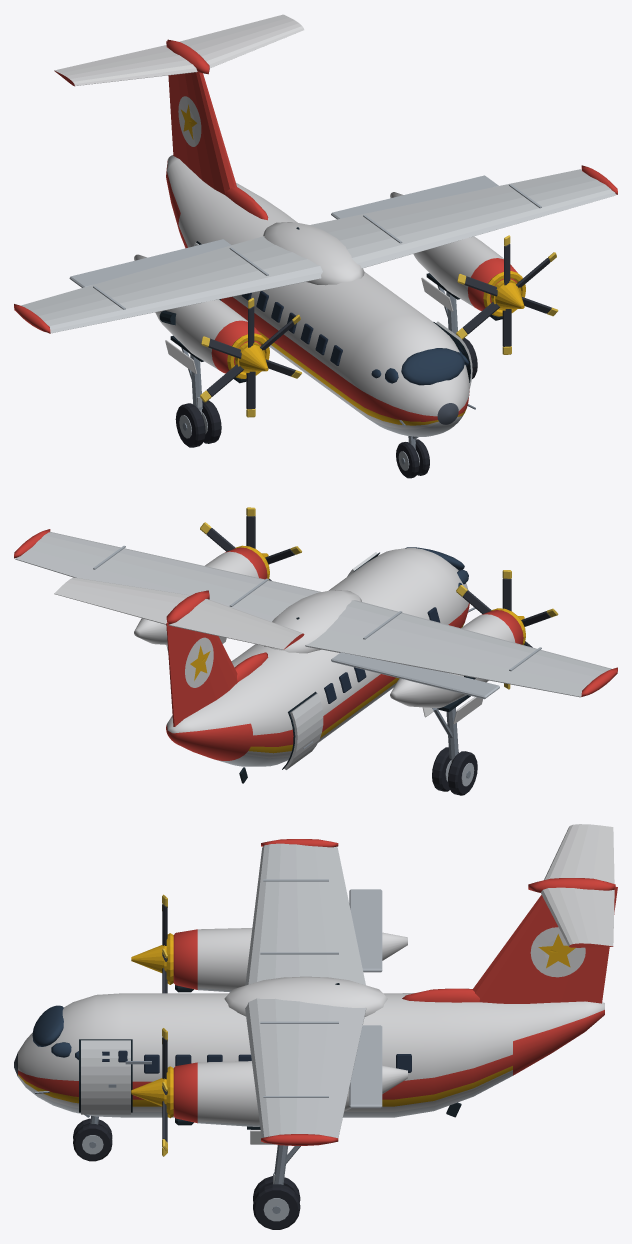
Rendered from skyport-plane.glb.
3 renders of one model, top to bottom at view 1: azimuth 30°, elevation 25°; view 2: azimuth 150°, elevation 25°; view 3: azimuth 270°, elevation 25°, orthographic. The views are drawn at different scales.
Parts seen in each view (by area): view 1: sp_plane_mesh, sp_plane_propr_mesh, sp_plane_propl_mesh, sp_plane_flapr_mesh, sp_plane_flapl_mesh, sp_plane_wheel_r_mesh, sp_plane_wheel_n_mesh; view 2: sp_plane_mesh, sp_plane_flapr_mesh, sp_plane_wheel_r_mesh, sp_plane_hold_mesh, sp_plane_propr_mesh, sp_plane_propl_mesh, sp_plane_gearr_mesh; view 3: sp_plane_mesh, sp_plane_door_mesh, sp_plane_flapl_mesh, sp_plane_flapr_mesh, sp_plane_wheel_l_mesh, sp_plane_wheel_n_mesh, sp_plane_propl_mesh, sp_plane_propr_mesh, sp_plane_gearl_mesh.
Boxes of the visible parts, x1=… form: sp_plane_mesh: x1=14, y1=14, x2=617, y2=436; sp_plane_propr_mesh: x1=200, y1=298, x2=301, y2=417; sp_plane_propl_mesh: x1=456, y1=235, x2=558, y2=354; sp_plane_flapr_mesh: x1=69, y1=239, x2=231, y2=287; sp_plane_flapl_mesh: x1=331, y1=175, x2=498, y2=219; sp_plane_wheel_r_mesh: x1=175, y1=400, x2=221, y2=447; sp_plane_wheel_n_mesh: x1=396, y1=439, x2=429, y2=478; sp_plane_mesh: x1=14, y1=529, x2=617, y2=783; sp_plane_flapr_mesh: x1=331, y1=652, x2=499, y2=699; sp_plane_wheel_r_mesh: x1=432, y1=747, x2=477, y2=795; sp_plane_hold_mesh: x1=284, y1=693, x2=323, y2=769; sp_plane_propr_mesh: x1=456, y1=570, x2=558, y2=689; sp_plane_propl_mesh: x1=200, y1=507, x2=301, y2=580; sp_plane_gearr_mesh: x1=432, y1=707, x2=458, y2=762; sp_plane_mesh: x1=14, y1=824, x2=617, y2=1145; sp_plane_door_mesh: x1=81, y1=1040, x2=130, y2=1114; sp_plane_flapl_mesh: x1=349, y1=1025, x2=382, y2=1108; sp_plane_flapr_mesh: x1=349, y1=889, x2=382, y2=972; sp_plane_wheel_l_mesh: x1=253, y1=1176, x2=300, y2=1229; sp_plane_wheel_n_mesh: x1=73, y1=1118, x2=112, y2=1161; sp_plane_propl_mesh: x1=131, y1=1028, x2=167, y2=1156; sp_plane_propr_mesh: x1=131, y1=894, x2=167, y2=993; sp_plane_gearl_mesh: x1=273, y1=1145, x2=300, y2=1184.
Bounding box in the file's own units: 10.82 × 4.69 × 9.2.
